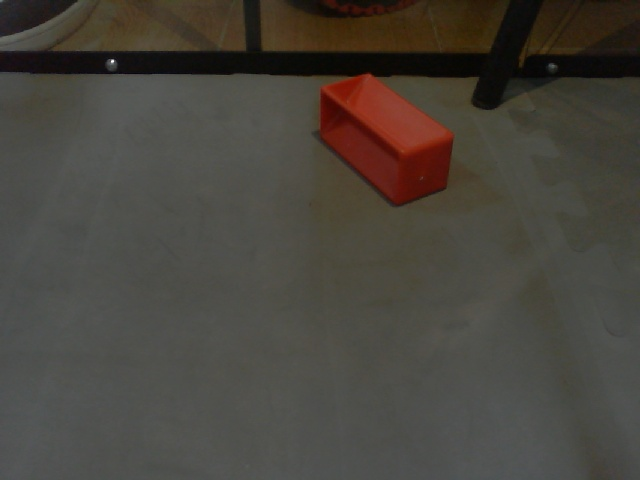RedSample: (319, 71, 456, 207)
